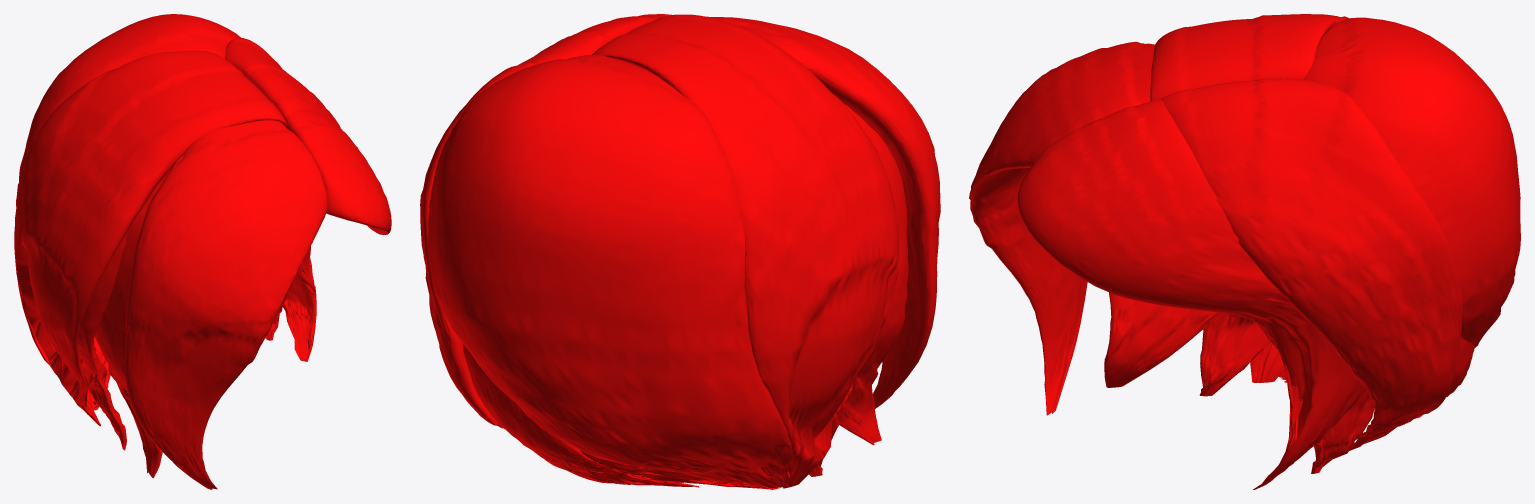
File: elvs_short_side_do_F.glb
The picture shows the model from 3 angles, left to right: view 1: azimuth 30°, elevation 25°; view 2: azimuth 150°, elevation 25°; view 3: azimuth 270°, elevation 25°; orthographic projection. The views are drawn at different scales.
Size of the model in its own units: 0.2163 by 0.2316 by 0.2723.
1 material, 1 textured.
